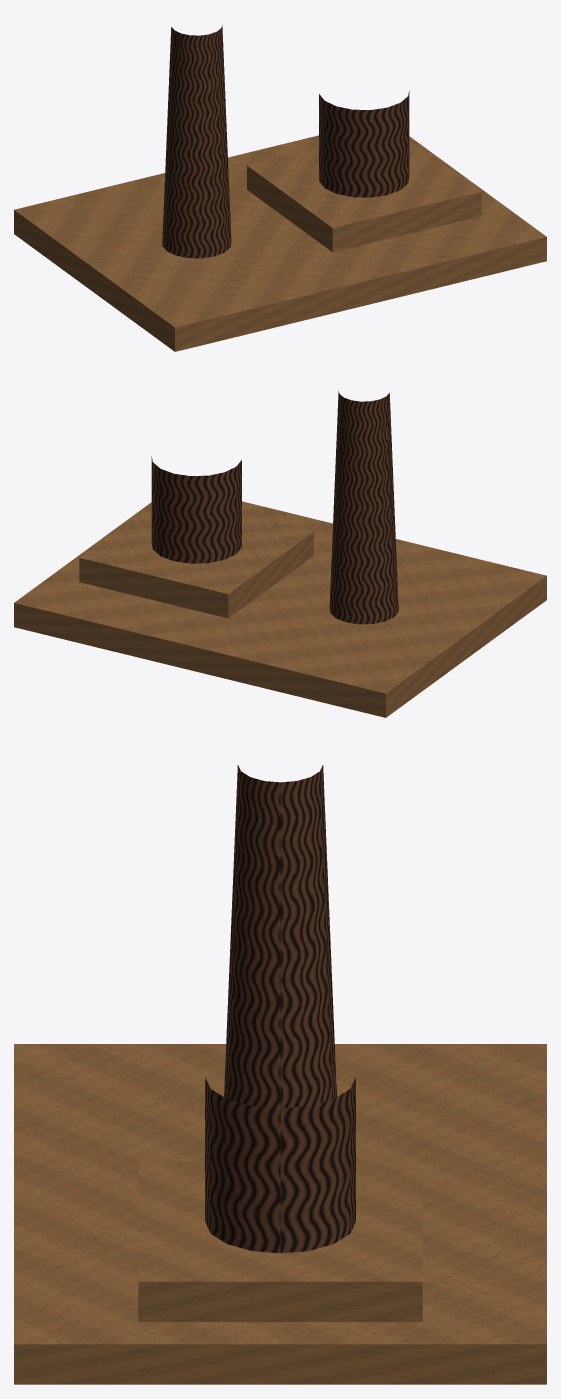
The model's file is pbr_pack_03_pine_bark_and_forest_floor.glb.
The picture shows the model from 3 angles, top to bottom: view 1: azimuth 30°, elevation 25°; view 2: azimuth 150°, elevation 25°; view 3: azimuth 270°, elevation 25°; orthographic projection. The views are drawn at different scales.
Visible parts, largest first — view 1: Dry_Pine_Needles_Floor_Module, Pinus_Kesiya_Bark_Trunk_Module; view 2: Dry_Pine_Needles_Floor_Module, Pinus_Kesiya_Bark_Trunk_Module; view 3: Dry_Pine_Needles_Floor_Module, Pinus_Kesiya_Bark_Trunk_Module.
Part boxes in pixels (bbox=[...]): Dry_Pine_Needles_Floor_Module: bbox=[14, 135, 546, 351]; Pinus_Kesiya_Bark_Trunk_Module: bbox=[162, 25, 409, 258]; Dry_Pine_Needles_Floor_Module: bbox=[14, 501, 546, 717]; Pinus_Kesiya_Bark_Trunk_Module: bbox=[151, 391, 398, 624]; Dry_Pine_Needles_Floor_Module: bbox=[14, 1044, 546, 1384]; Pinus_Kesiya_Bark_Trunk_Module: bbox=[205, 765, 355, 1253].
Size of the model in its own units: 8 by 5 by 6.
2 materials, 2 textured.
